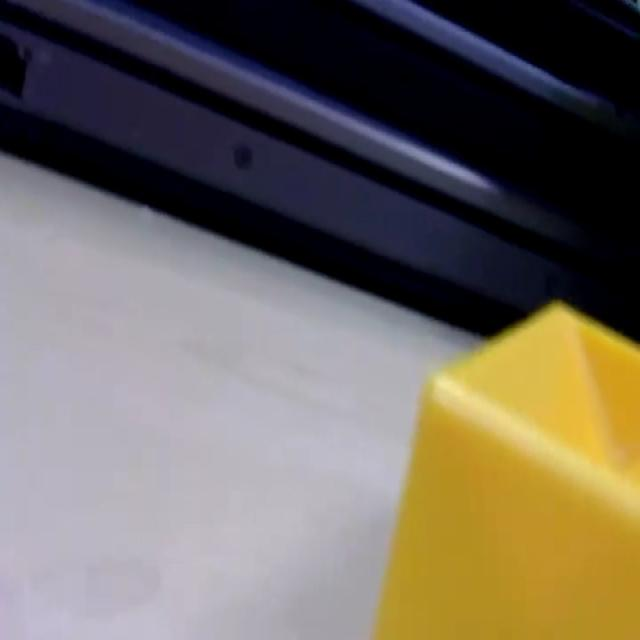yellow_block: (372, 297, 638, 636)
